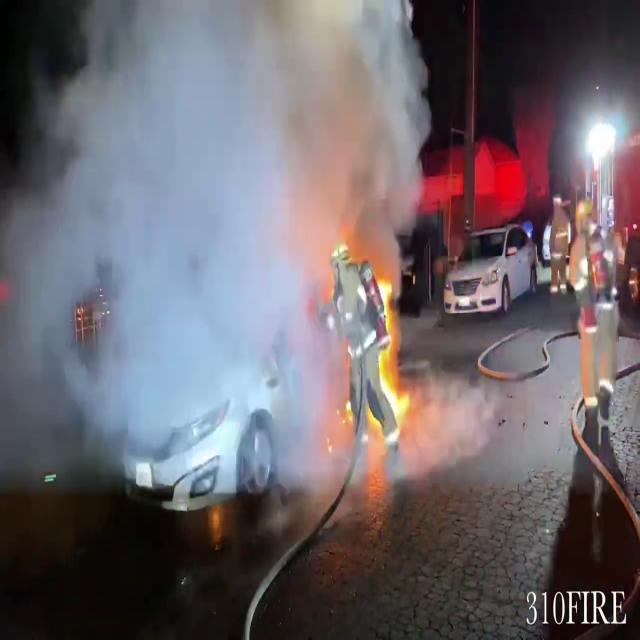Fire: (372, 264, 412, 433)
Smoke: (0, 0, 434, 488)
